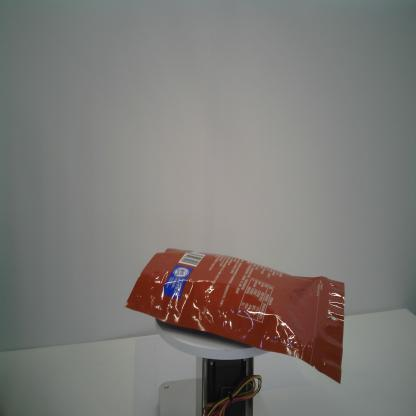Dried Food: (122, 247, 345, 385)
